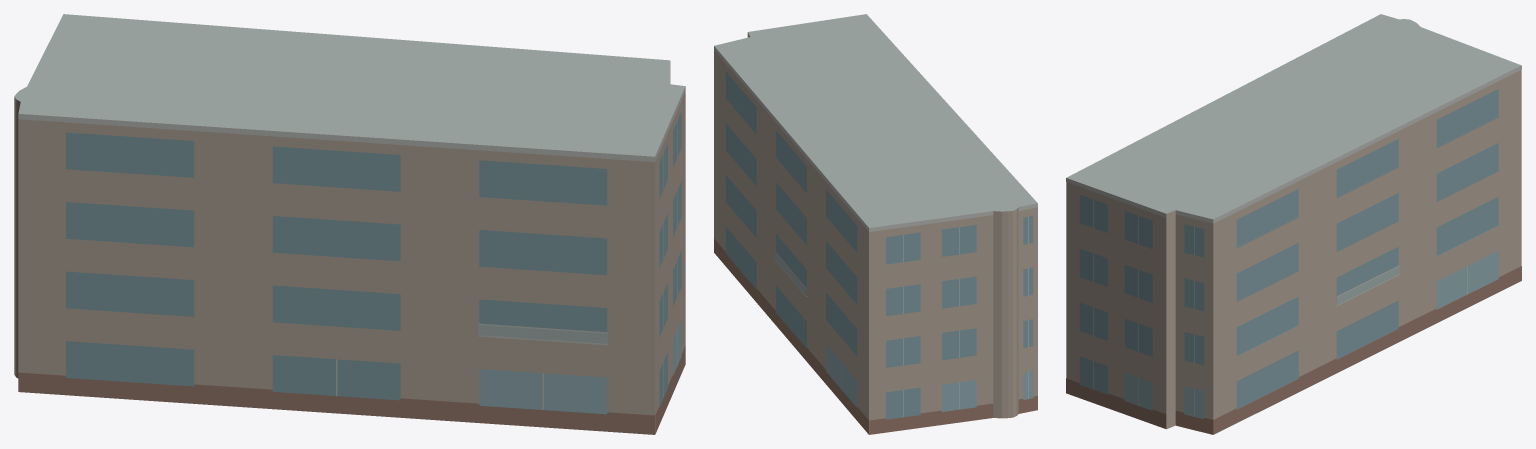
File: survey-upis-32516176.glb
3 renders of one model, left to right at view 1: azimuth 30°, elevation 25°; view 2: azimuth 150°, elevation 25°; view 3: azimuth 270°, elevation 25°, orthographic. The views are drawn at different scales.
Parts seen in each view (by area): view 1: survey-upis-32516176.tmp; view 2: survey-upis-32516176.tmp; view 3: survey-upis-32516176.tmp.
Part boxes in pixels (box(x1,y1,x2,y2)): survey-upis-32516176.tmp: box(14, 14, 685, 434); survey-upis-32516176.tmp: box(714, 14, 1037, 434); survey-upis-32516176.tmp: box(1066, 14, 1521, 434).
Bounding box in the file's own units: 25.57 × 12.5 × 23.97.
